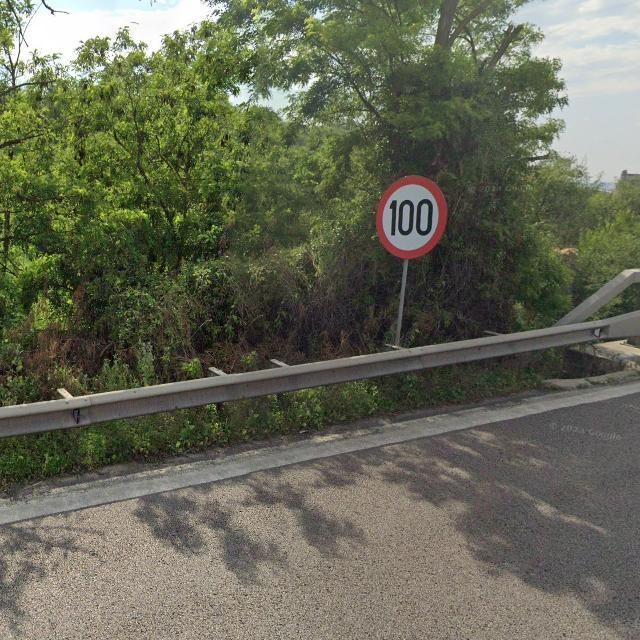forb_speed_over_100: (376, 174, 447, 259)
